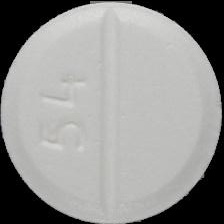52959-676: (0, 0, 224, 224)
